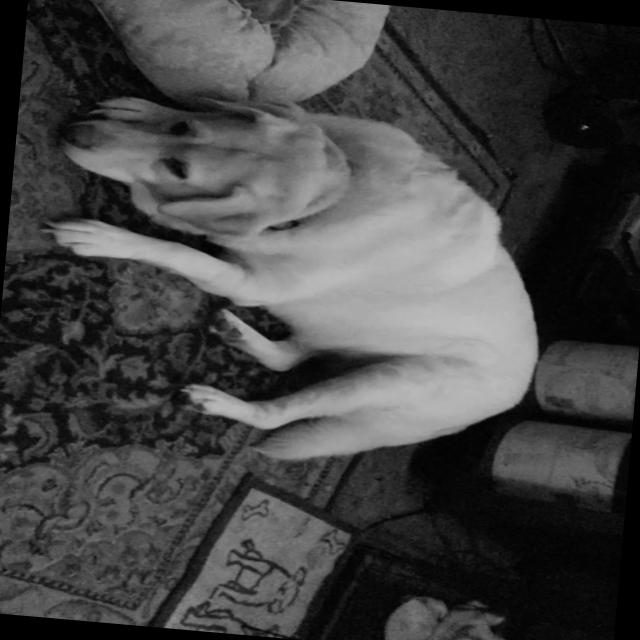laying down: (18, 80, 570, 484)
